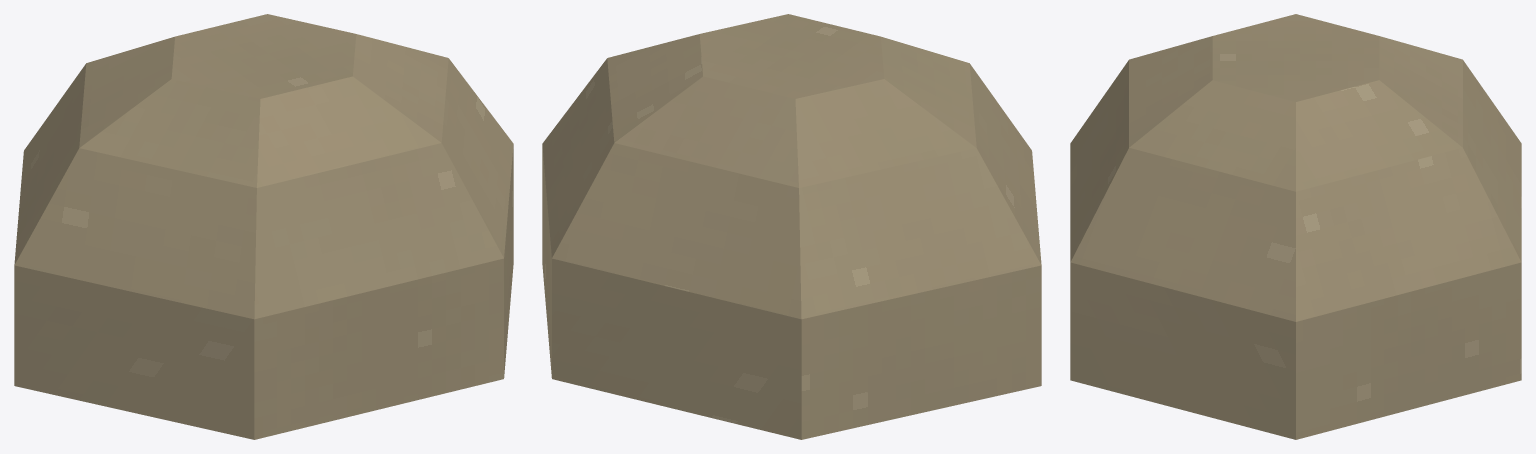
Rendered from item_artifactShell.glb.
3 renders of one model, left to right at view 1: azimuth 30°, elevation 25°; view 2: azimuth 150°, elevation 25°; view 3: azimuth 270°, elevation 25°, orthographic. The views are drawn at different scales.
Visible parts, largest first — view 1: Donor_space-meteor_half_0; view 2: Donor_space-meteor_half_0; view 3: Donor_space-meteor_half_0.
Part boxes in pixels (x1,y1,x2,y2): Donor_space-meteor_half_0: (14,14,513,439); Donor_space-meteor_half_0: (542,14,1041,439); Donor_space-meteor_half_0: (1070,14,1521,439).
Bounding box in the file's own units: 0.35 × 0.18 × 0.28.
Materials: 1 (1 with a texture image).
